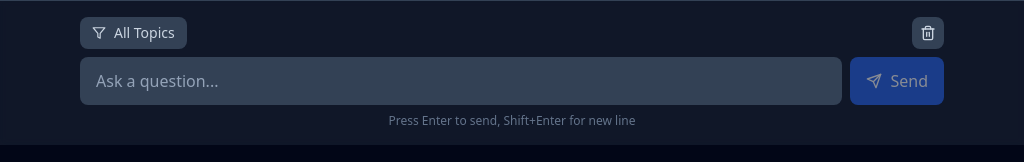
Test: ChatInput › enables send button when text is entered
The width and height of the screenshot is (1024, 162).
Type "Hello" into the text box with placeholder "Ask a question..." at (461, 81), box [80,57,842,105]
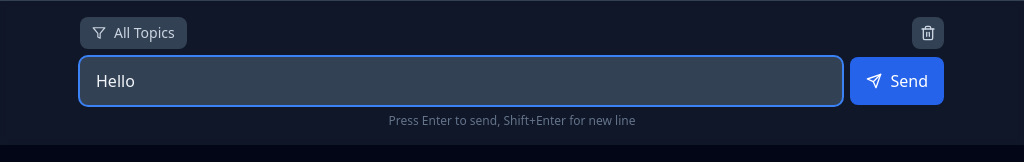
Expected: the button "Send" is enabled, [850,57,944,105]
